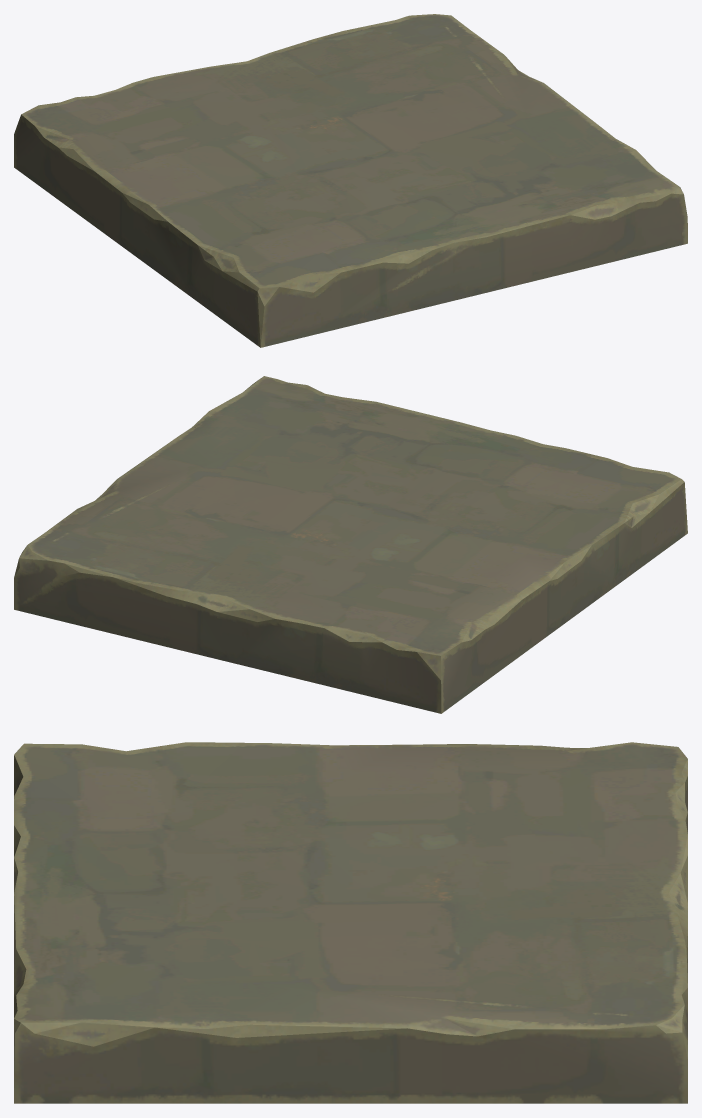
The model's file is FrogTile.fbx.
3 views of the same model, one above another, from view 1: azimuth 30°, elevation 25°; view 2: azimuth 150°, elevation 25°; view 3: azimuth 270°, elevation 25° (orthographic). The views are drawn at different scales.
Visible parts, largest first — view 1: top; view 2: top; view 3: top.
Part boxes in pixels (bbox=[...]): top: bbox=[14, 14, 687, 347]; top: bbox=[14, 376, 687, 713]; top: bbox=[14, 742, 687, 1103].
Bounding box in the file's own units: 396 × 50.26 × 396.
1 material, 1 textured.
